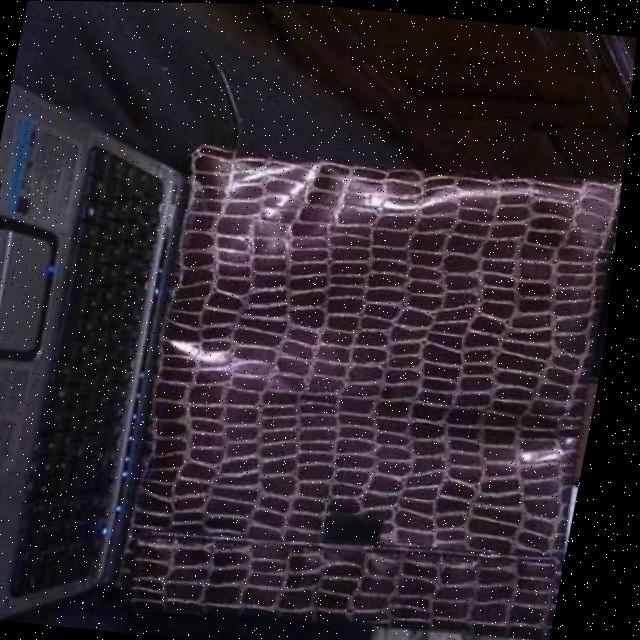laptop: (0, 119, 622, 640)
